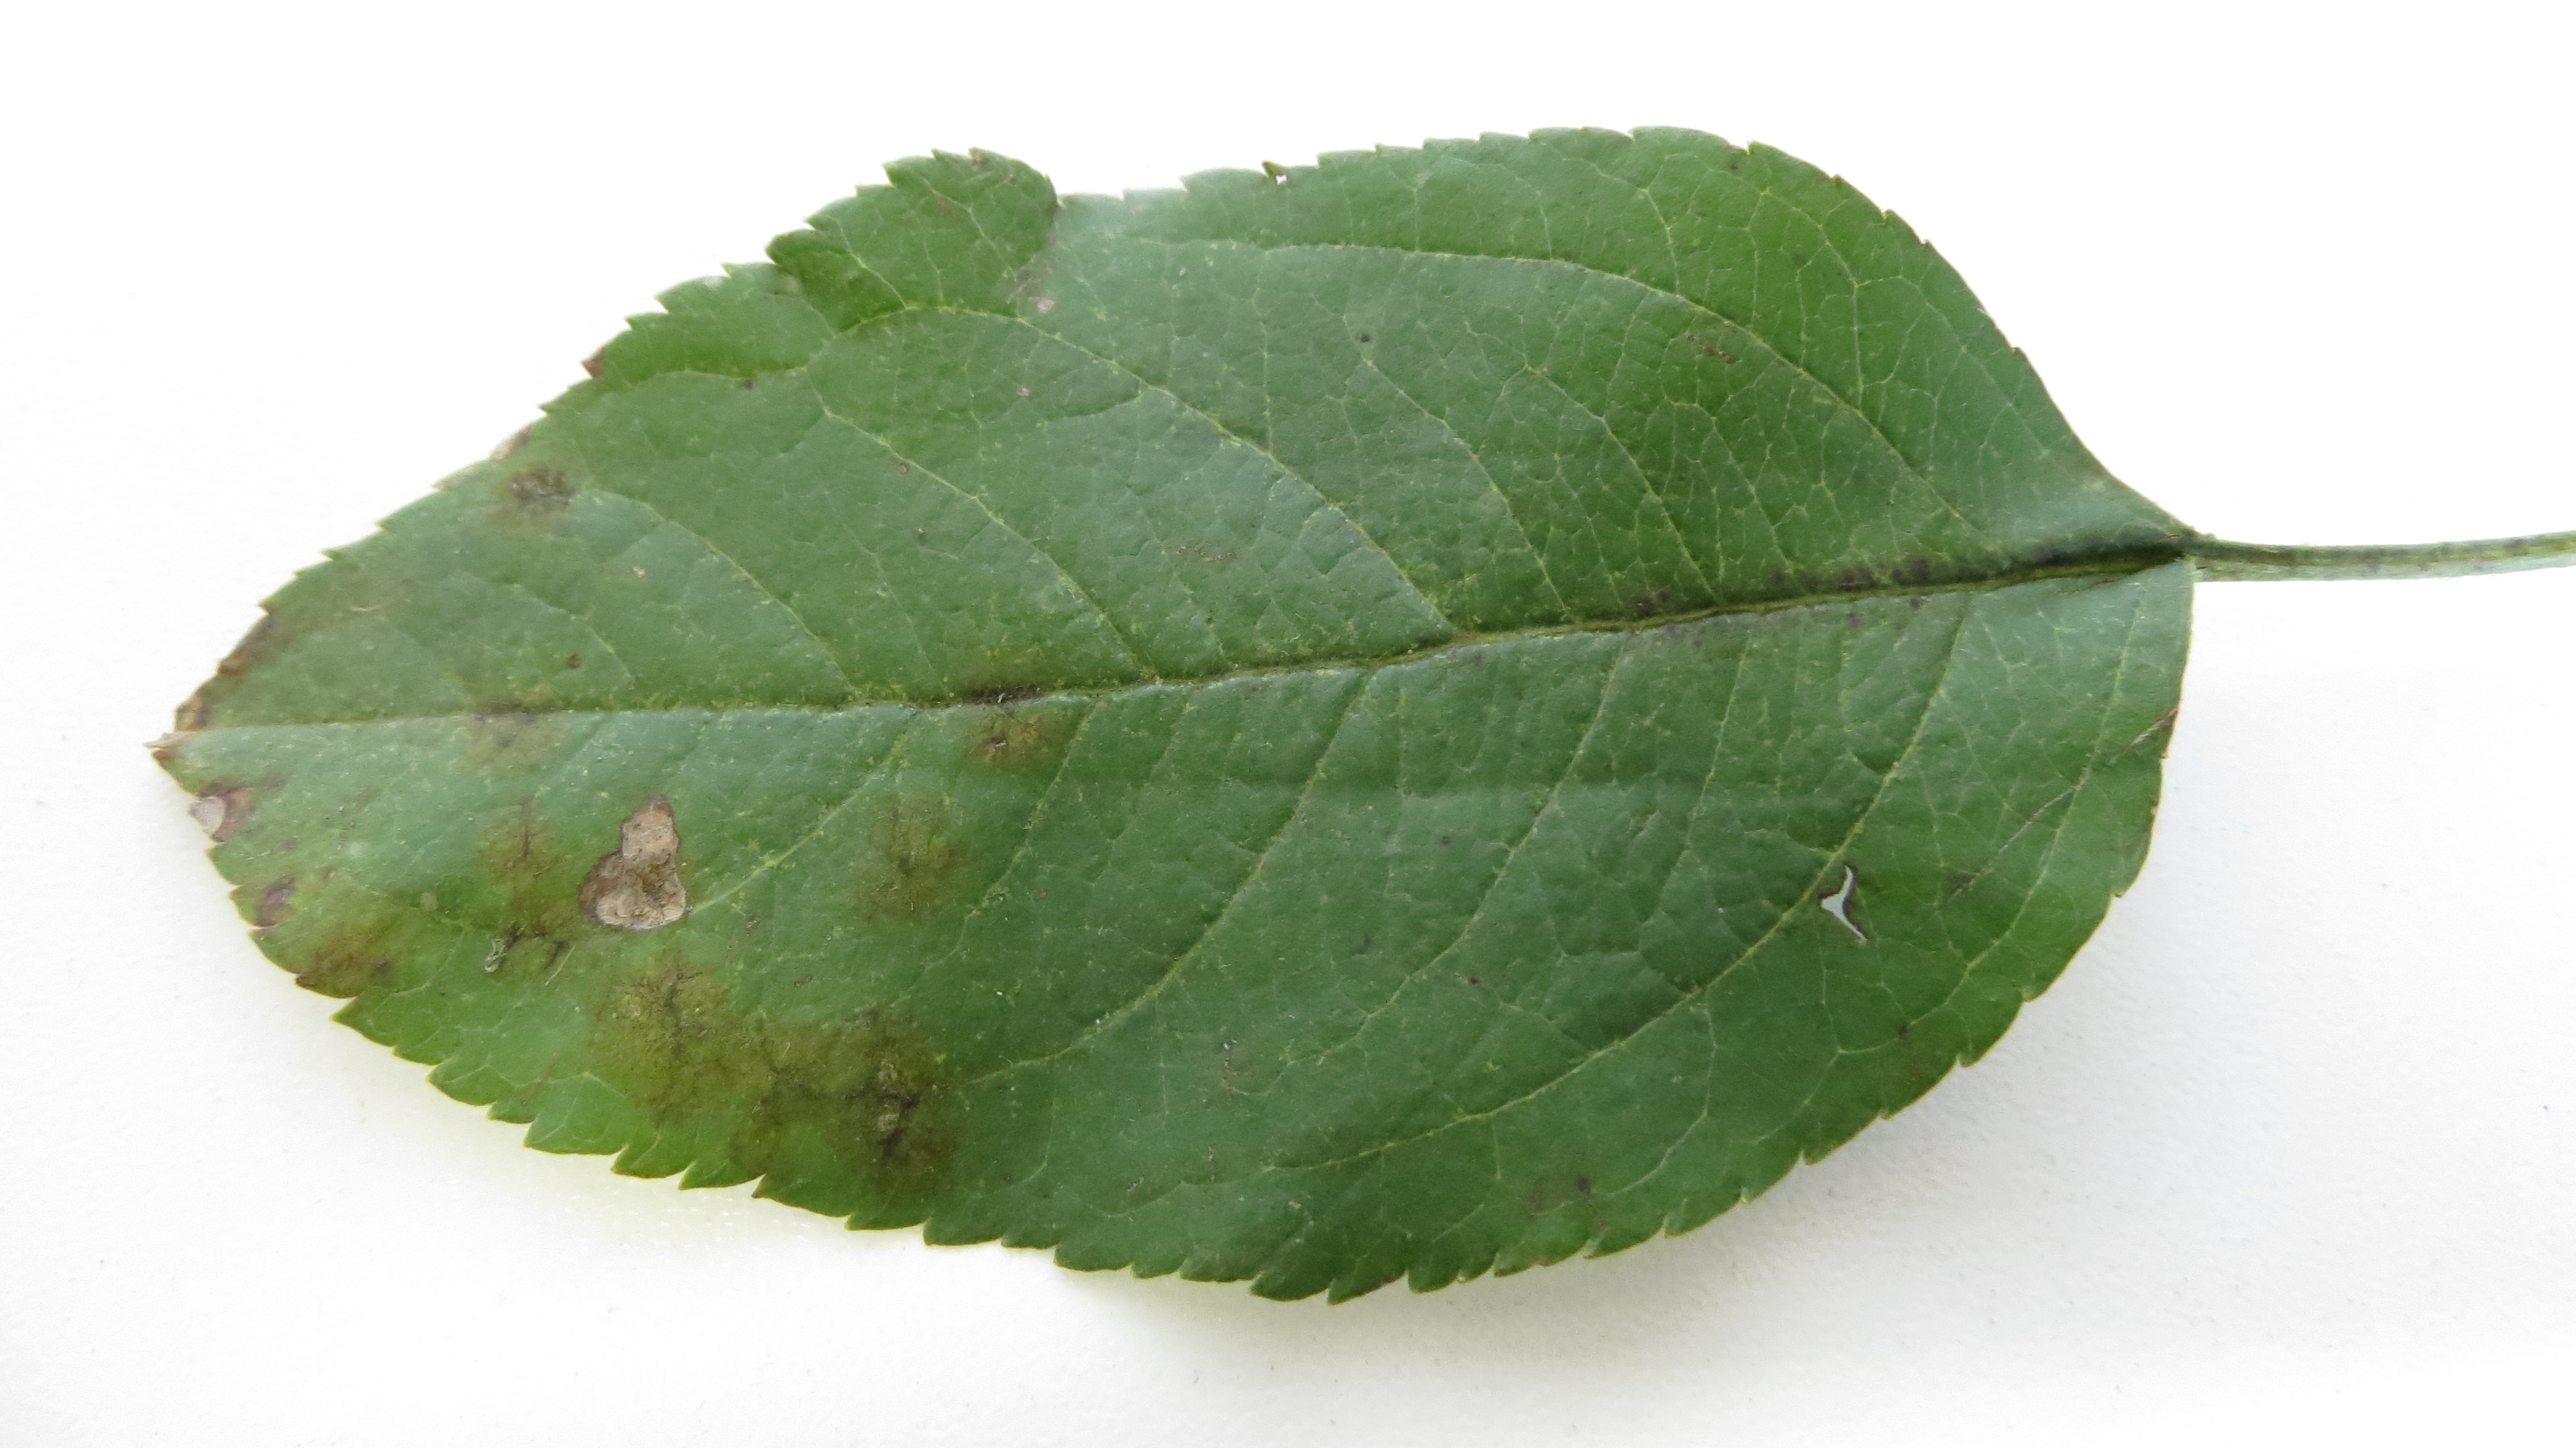sarna: (724, 993, 962, 1213), (234, 813, 433, 1011), (586, 945, 729, 1131), (465, 795, 575, 975), (570, 789, 690, 936), (853, 774, 970, 915), (448, 655, 579, 772), (961, 659, 1065, 777), (490, 446, 603, 543)
